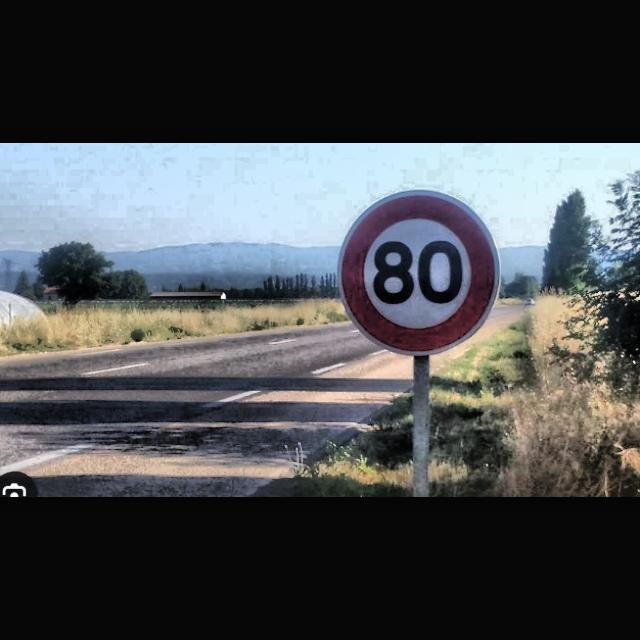speed_80: (336, 188, 502, 356)
